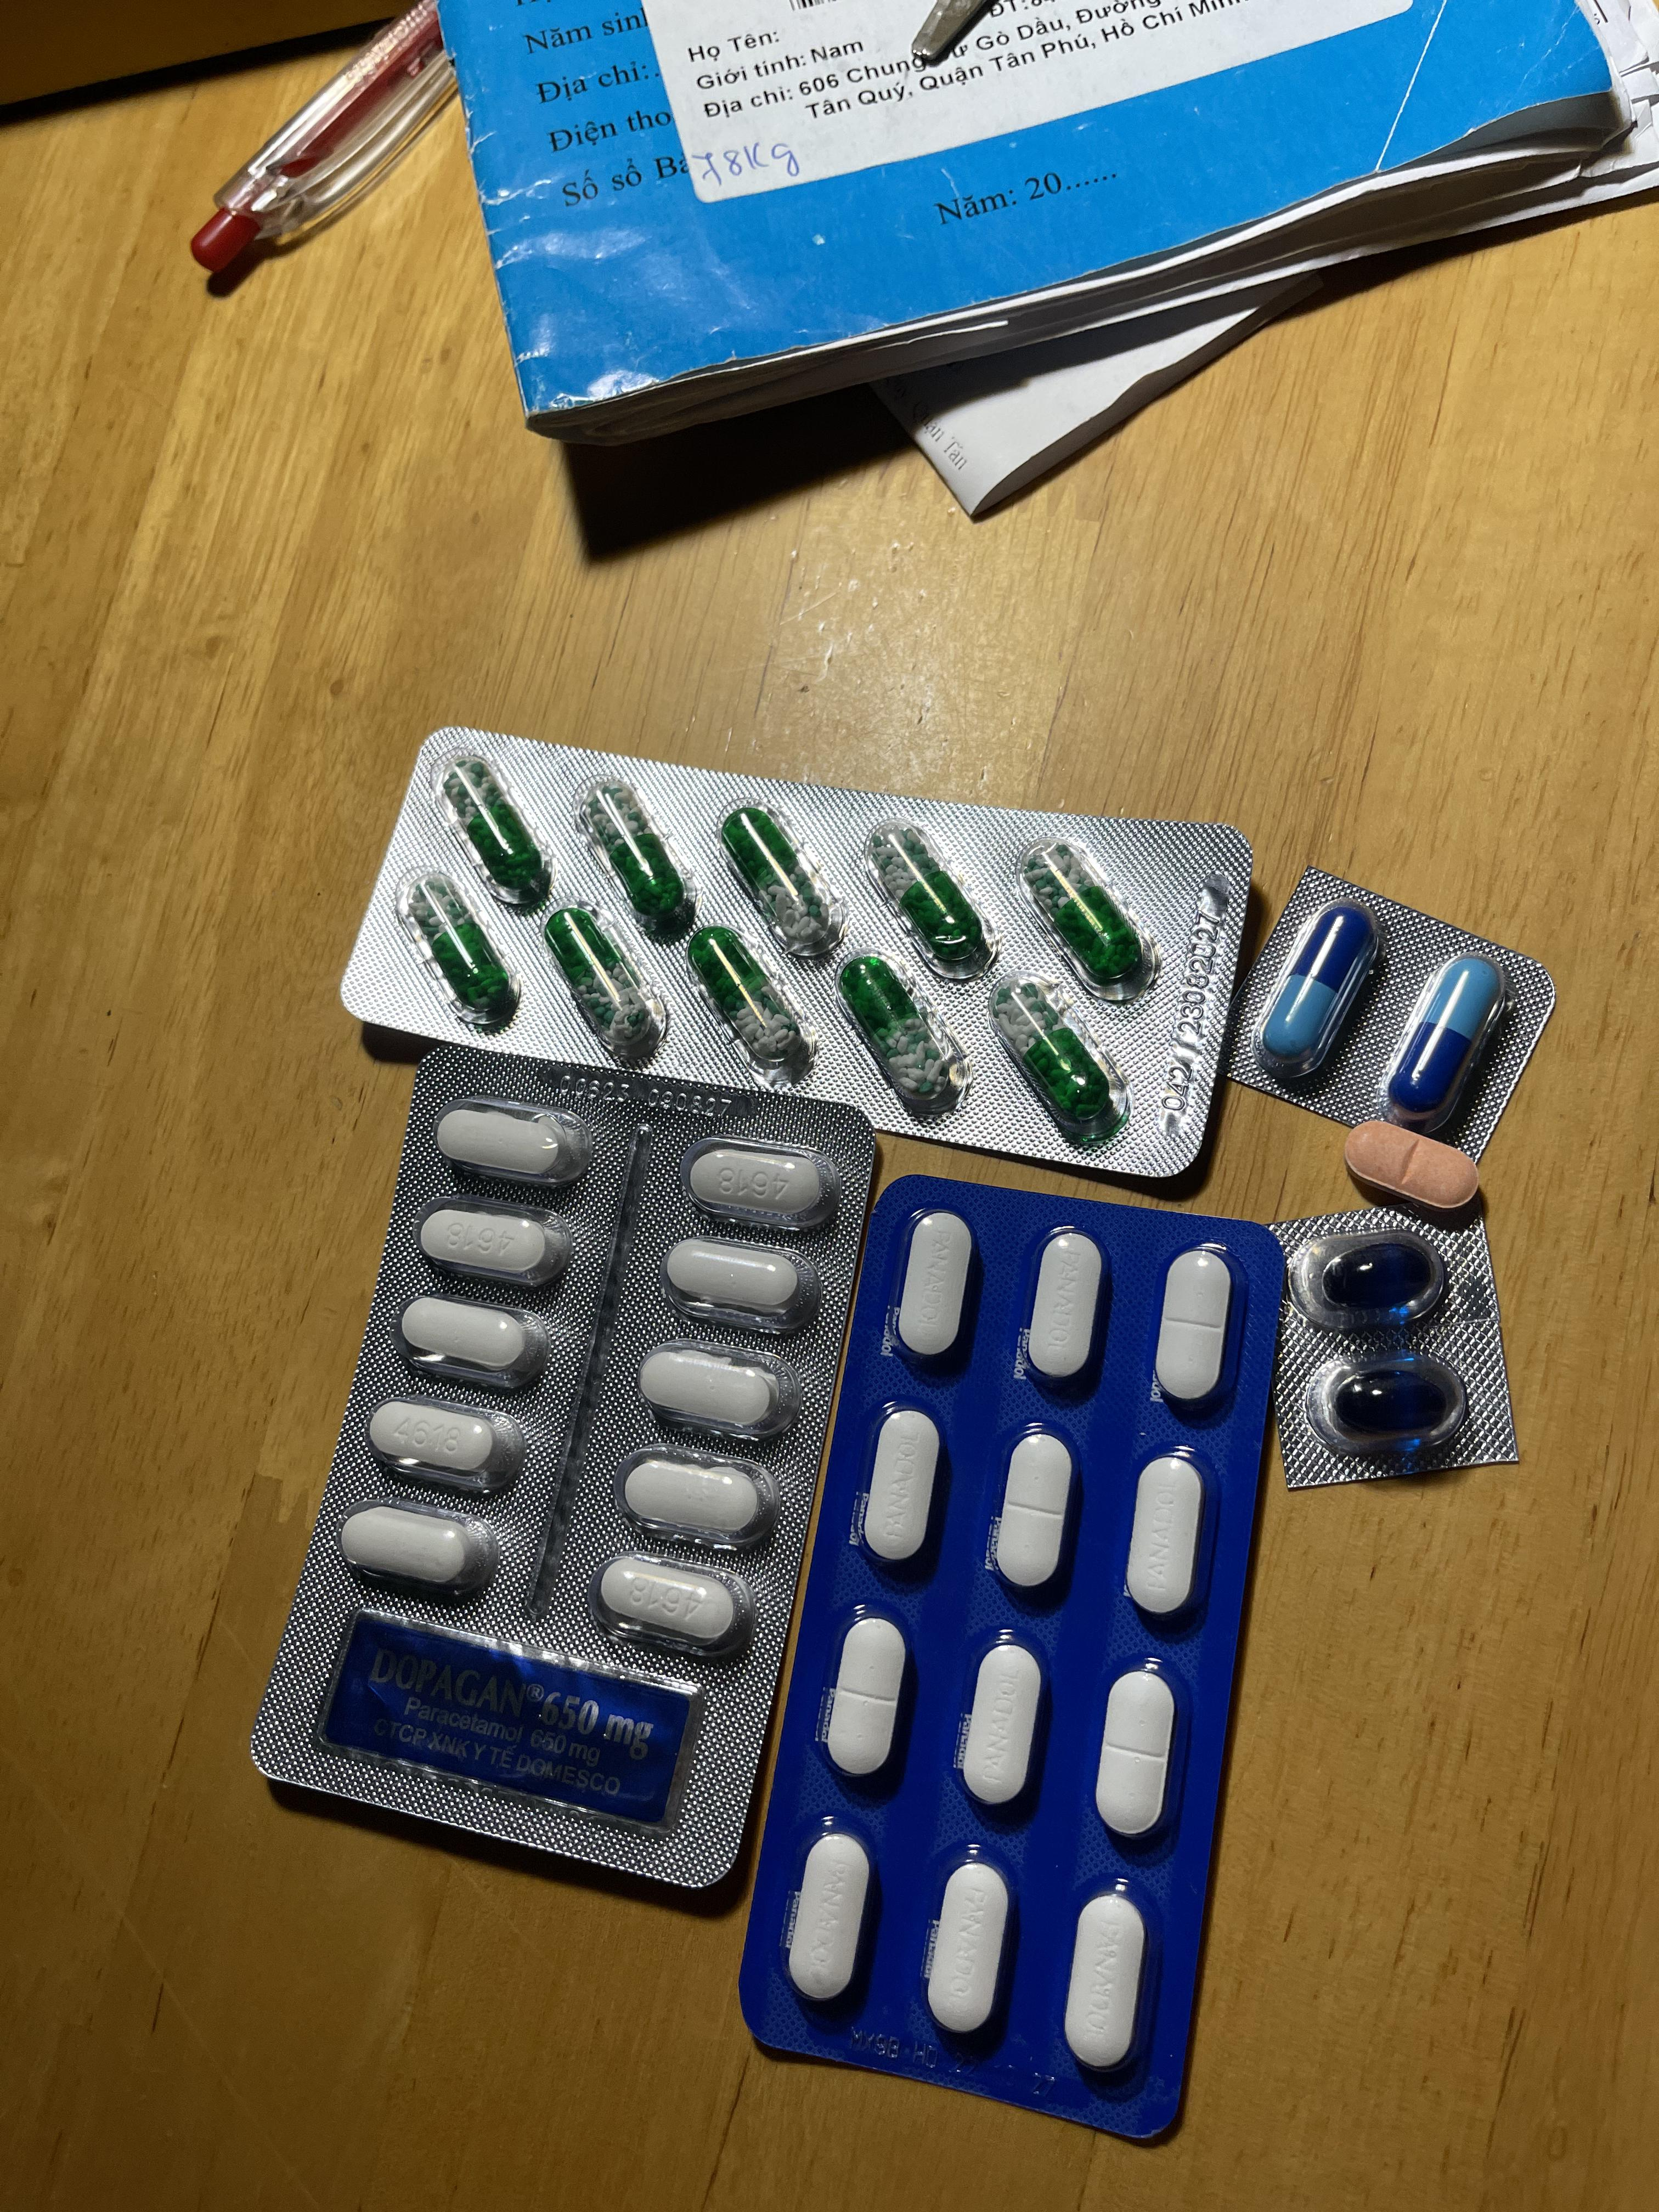Lincomyxin_500mg: (1328, 1366, 1457, 1437), (1323, 1242, 1436, 1313)
Loratadine_10mg: (1344, 1116, 1486, 1209)
Paracetamol_350mg: (927, 1862, 1011, 2040), (1063, 1890, 1145, 2071), (788, 1834, 871, 2005), (1096, 1663, 1178, 1836), (962, 1644, 1044, 1813), (823, 1616, 906, 1778), (1127, 1454, 1208, 1620), (995, 1428, 1075, 1592), (1025, 1231, 1107, 1388), (1155, 1249, 1236, 1407), (863, 1409, 941, 1568), (897, 1211, 976, 1360)
Paracetamol_500mg: (366, 1399, 533, 1496), (592, 1557, 751, 1656), (612, 1449, 774, 1545), (634, 1341, 795, 1437), (394, 1294, 556, 1388), (415, 1198, 577, 1287), (660, 1237, 812, 1325), (676, 1136, 830, 1223), (338, 1505, 488, 1592), (434, 1103, 596, 1181)
Paracetamol_650mg: (990, 972, 1129, 1136), (392, 864, 523, 1028), (1023, 838, 1152, 991), (575, 773, 697, 935), (831, 948, 955, 1106), (540, 900, 664, 1055), (720, 805, 842, 960), (436, 751, 554, 909), (688, 925, 810, 1075), (875, 824, 990, 967)
pill: (1380, 954, 1506, 1130), (1267, 906, 1377, 1064)
